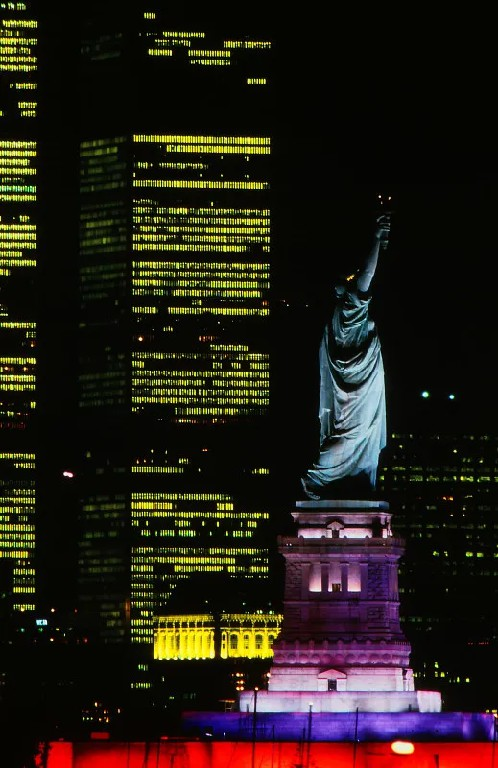SL: (269, 190, 415, 692)
